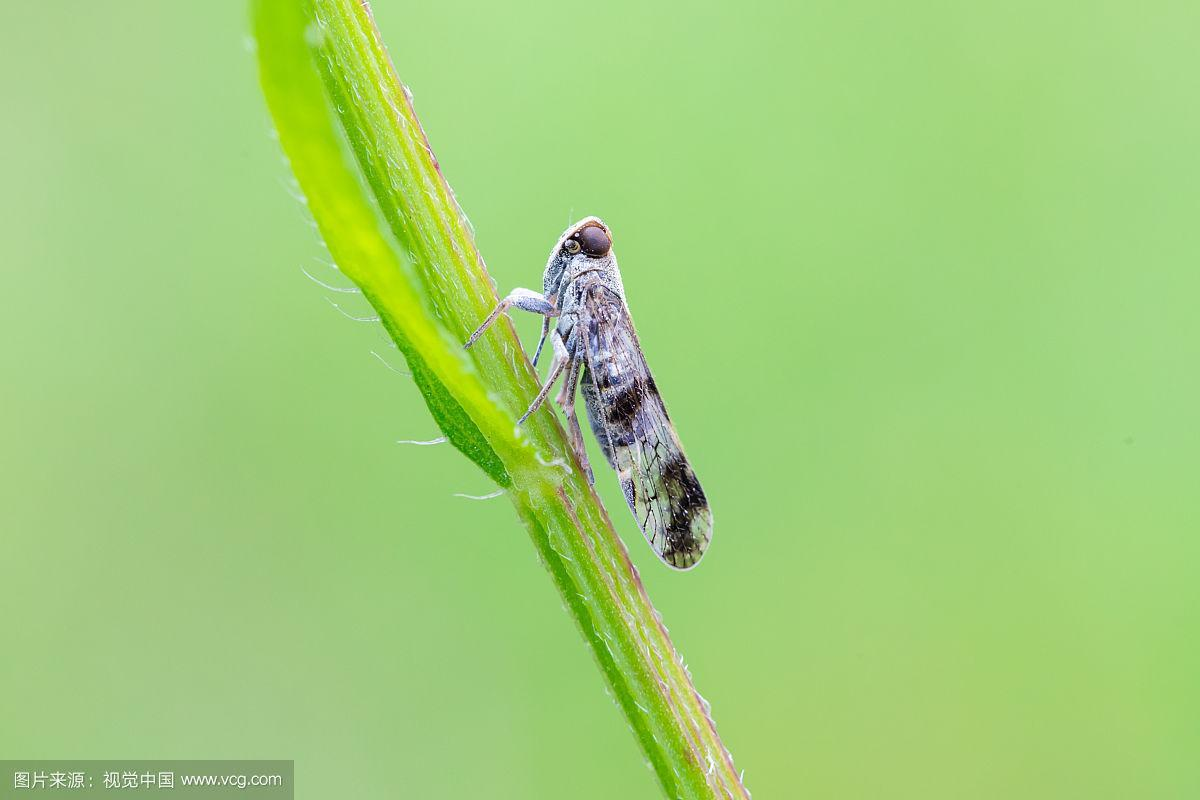Cicadellidae: (459, 214, 712, 573)
